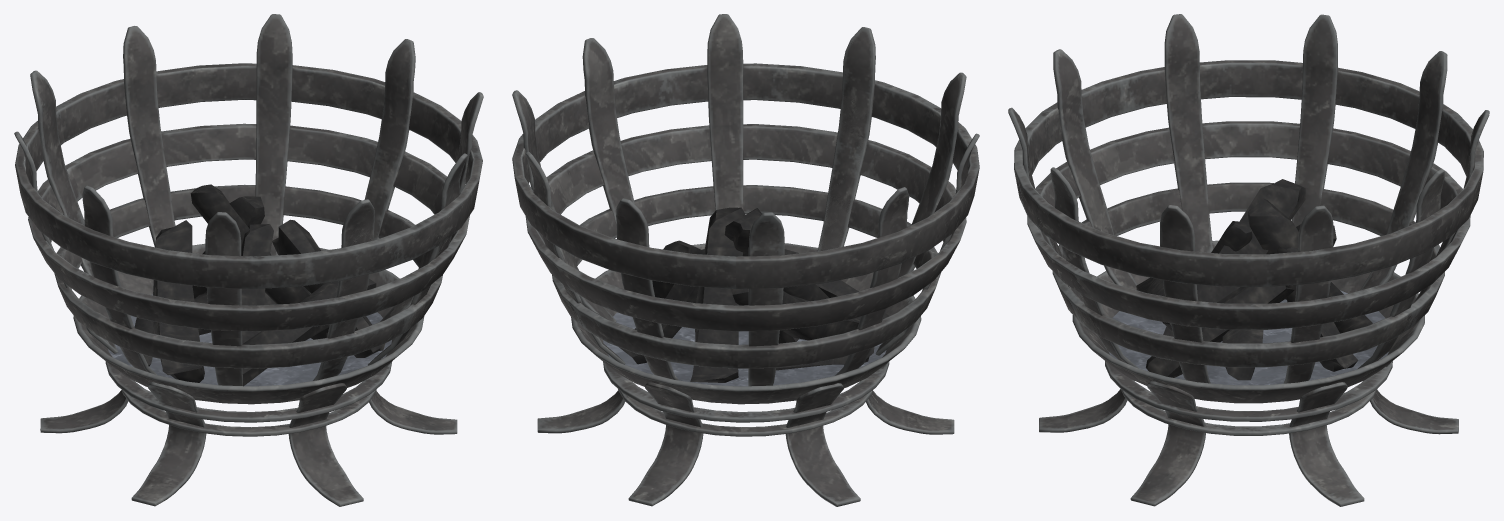
The model's file is Torch3.fbx.
The picture shows the model from 3 angles, left to right: view 1: azimuth 30°, elevation 25°; view 2: azimuth 150°, elevation 25°; view 3: azimuth 270°, elevation 25°; orthographic projection.
Visible parts, largest first — view 1: Torch3; view 2: Torch3; view 3: Torch3.
Boxes of the visible parts, x1,y1,x2,y2 form: Torch3: (14,14,483,506); Torch3: (512,14,979,506); Torch3: (1008,14,1489,506).
Bounding box in the file's own units: 0.7696 × 0.5724 × 0.7879.
